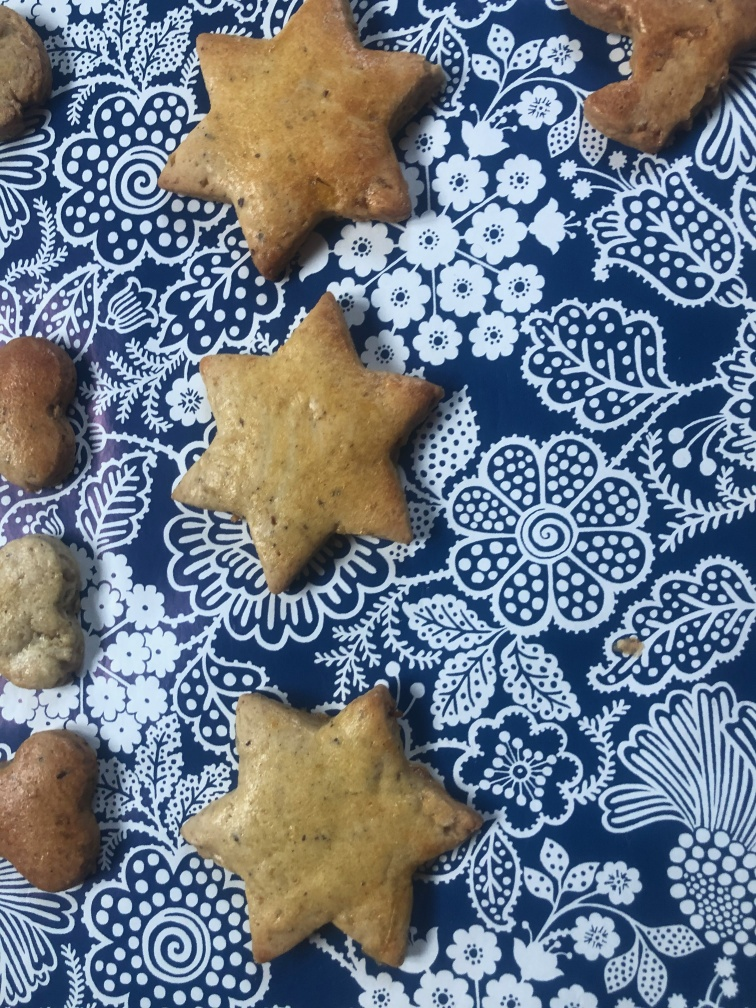star: (177, 685, 482, 973), (172, 293, 450, 594), (160, 1, 435, 272)
